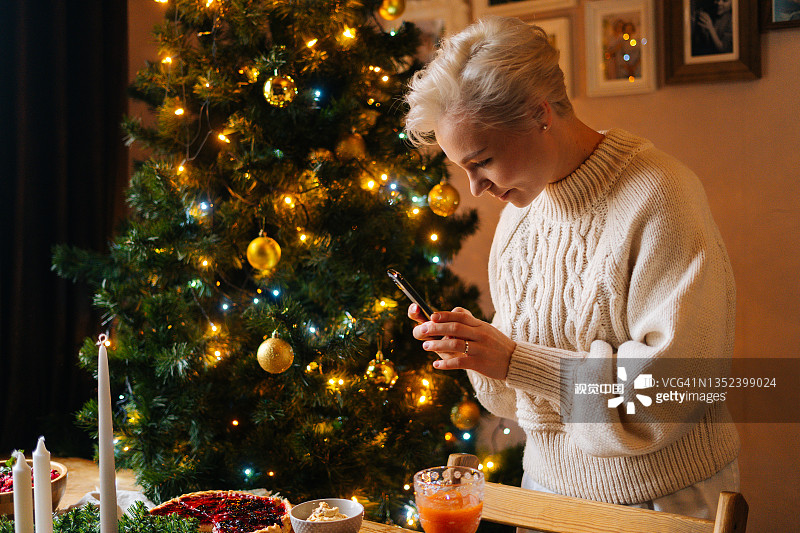taking photos: (367, 267, 534, 393)
